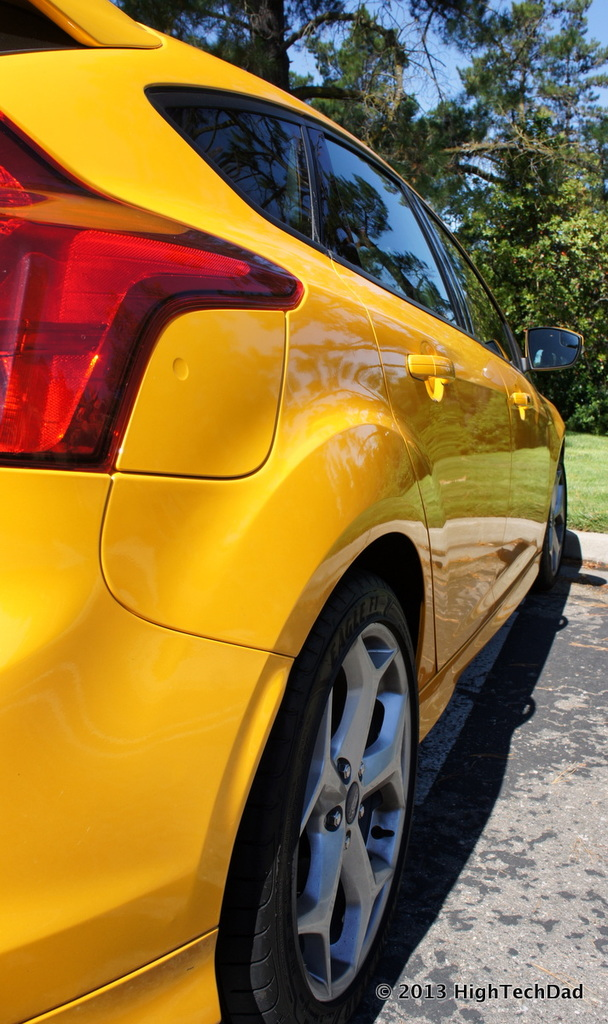Car: (0, 0, 584, 1023)
